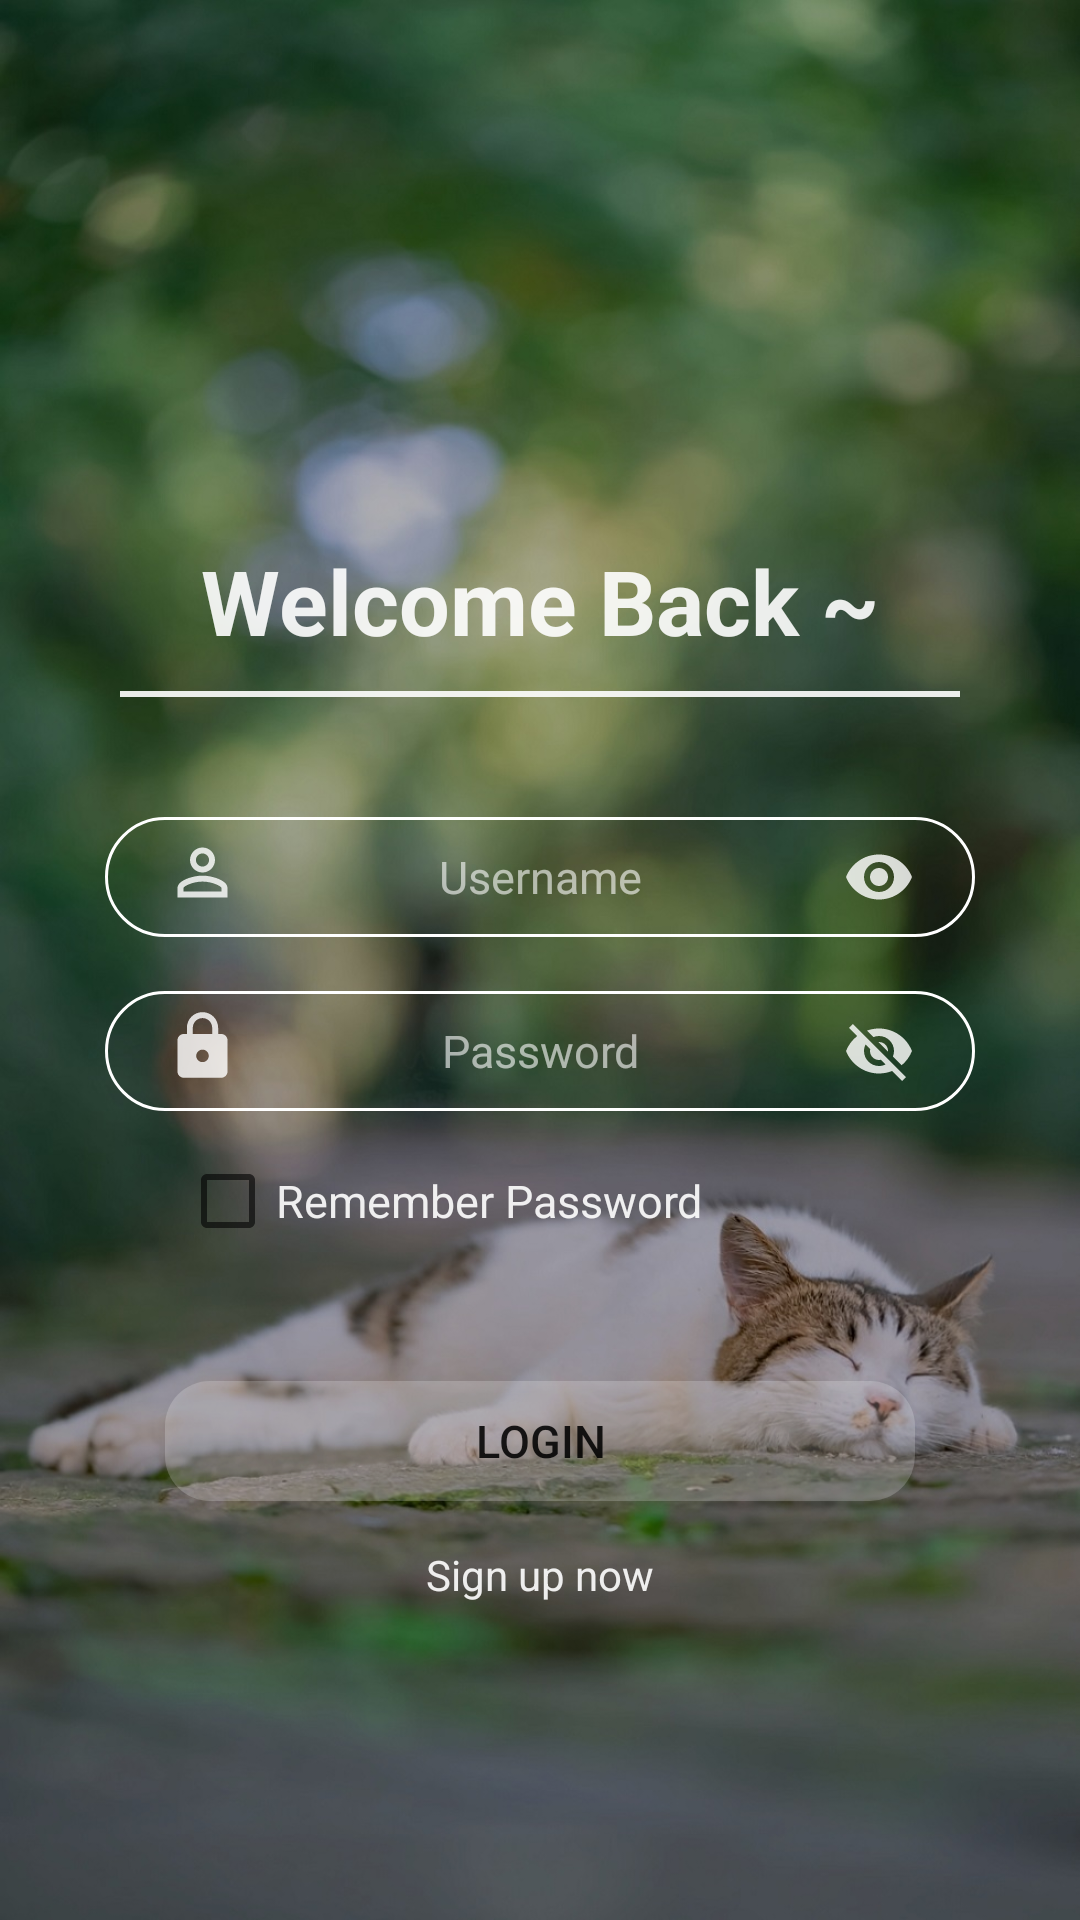

Icons on this 1080x1920 Android screen, each with the point to tap as [x,y]:
lock: [202,1046]
person: [202,872]
visibility: [879,877]
visibility off: [877,1048]
